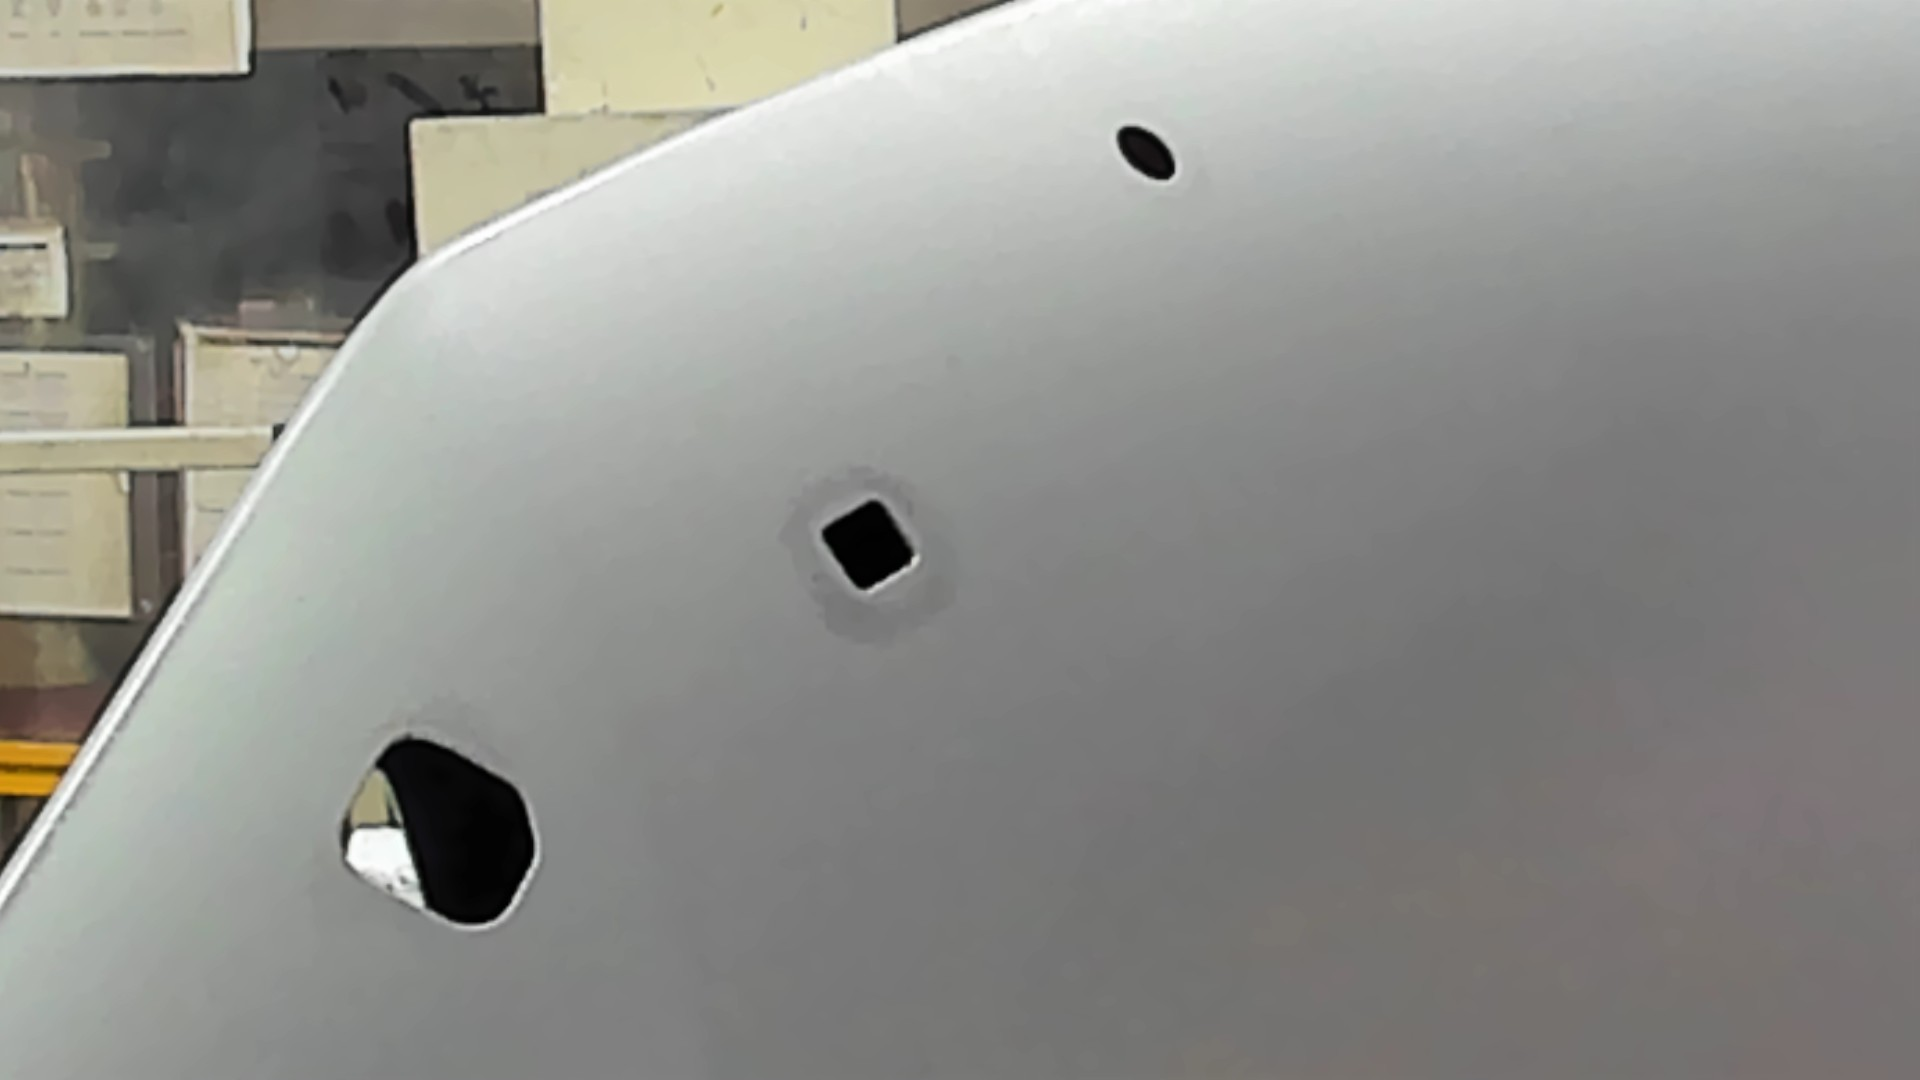capo: (928, 189, 1920, 1080)
chico: (1113, 120, 1178, 186)
grande: (332, 733, 546, 942)
mediano: (808, 495, 920, 597)
